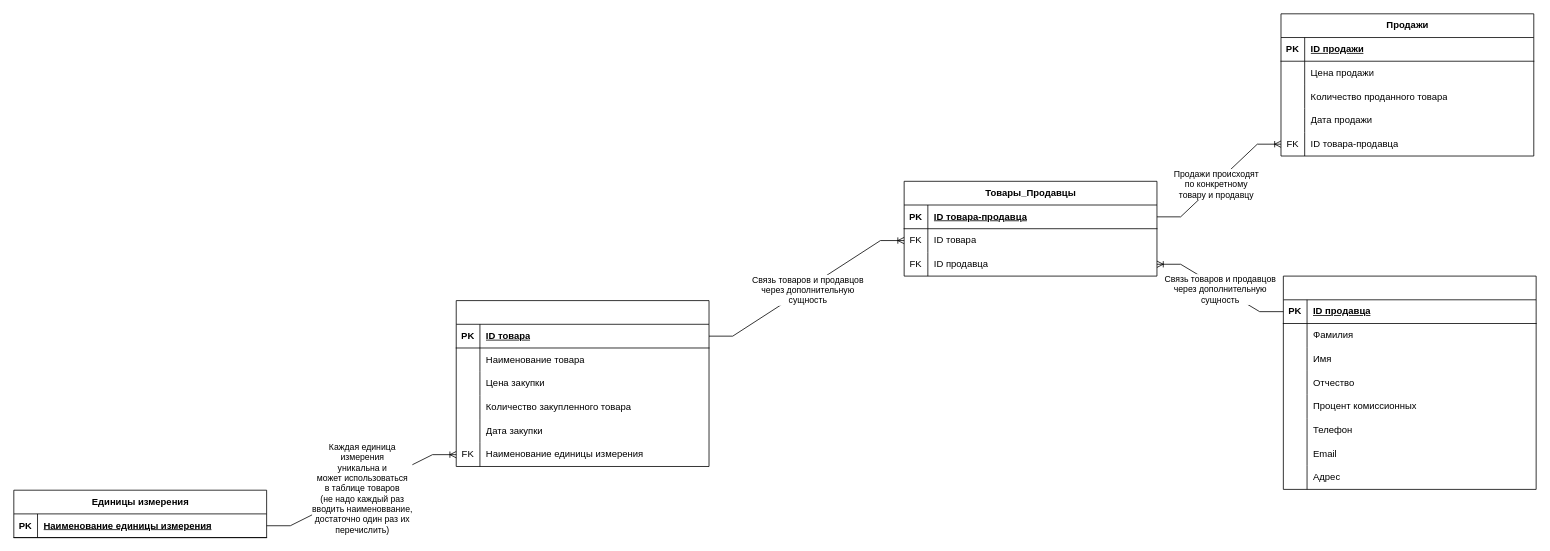
Some shapes in this 1550 by 551 pixel diagram are drawn without their labels. The shapes that lost their labels are listed below. From the top down, each one's box as (x1, y1, x2, y2) in pixels, then its label:
(455, 300, 709, 466): Товары
(1283, 275, 1536, 489): Продавцы (Работники)
